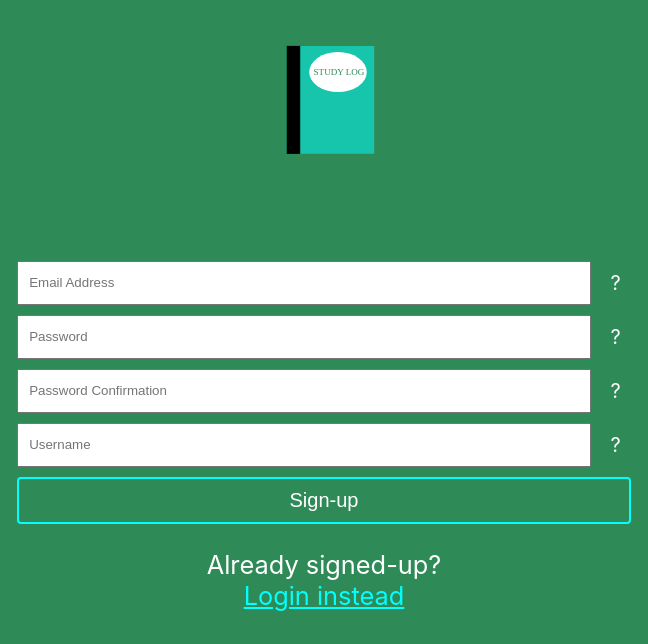
Test case: Sign-up Page › blocks failed registration when the email format is wrong
Type "s.addict!@test.com" into the field with test id "email-input" at {"x": 304, "y": 283}, box [17, 261, 590, 305]
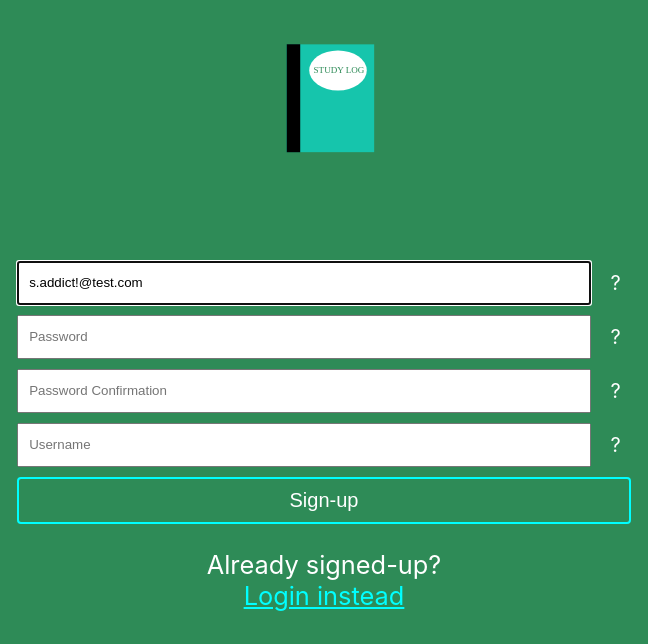
Type "bookworm" into the password field with test id "password-input" at {"x": 304, "y": 337}, box [17, 315, 590, 359]
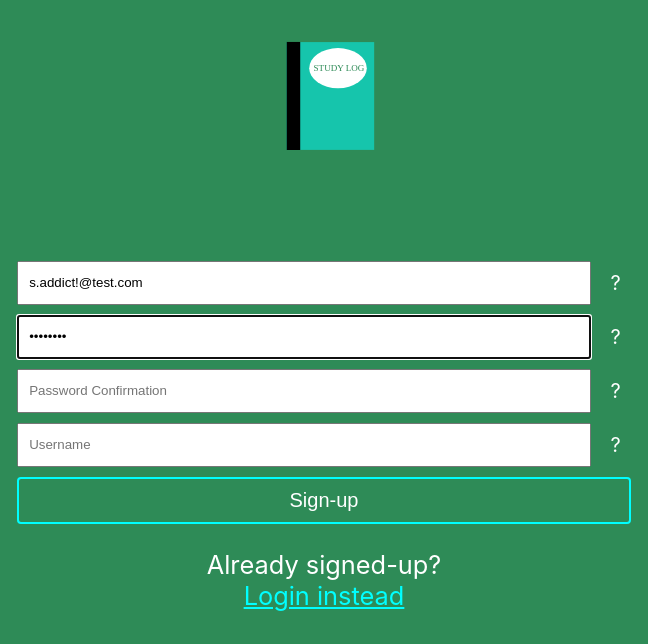
Type "bookworm" into the password field with test id "password-confirmation-input" at {"x": 304, "y": 391}, box [17, 369, 590, 413]
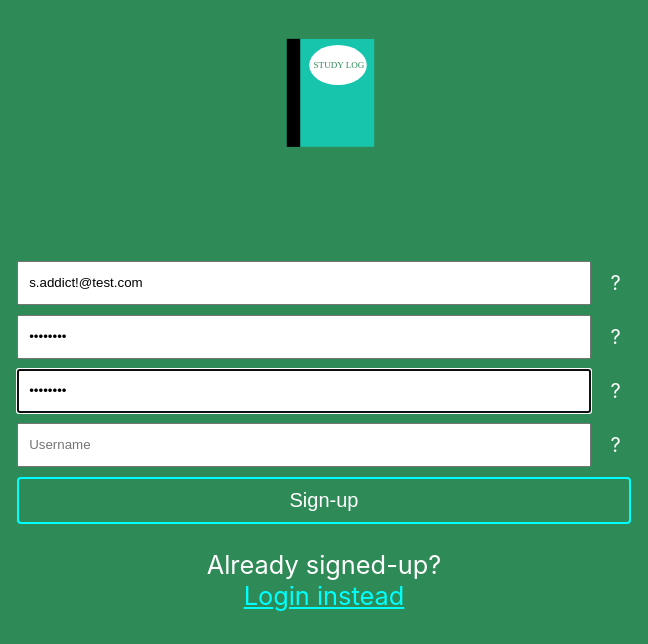
Type "Studying Addict 3" into the field with test id "username-input" at {"x": 304, "y": 445}, box [17, 423, 590, 467]
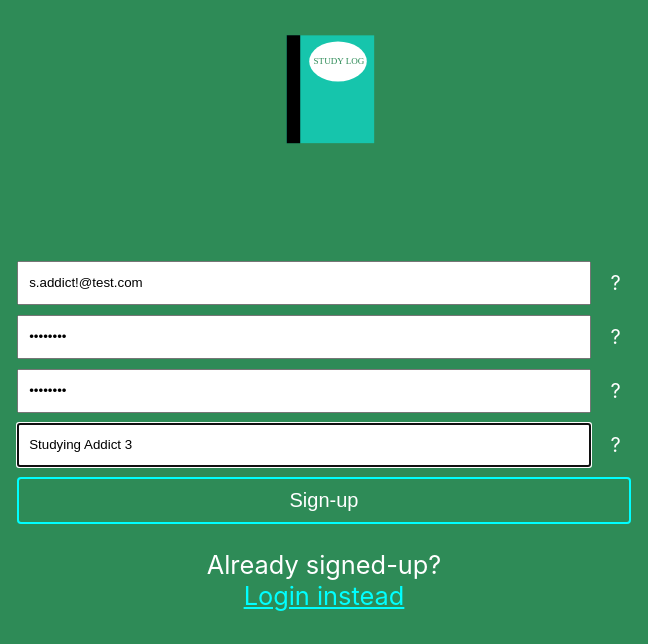
Click the button "Sign-up" at {"x": 324, "y": 501}, box [17, 477, 631, 524]
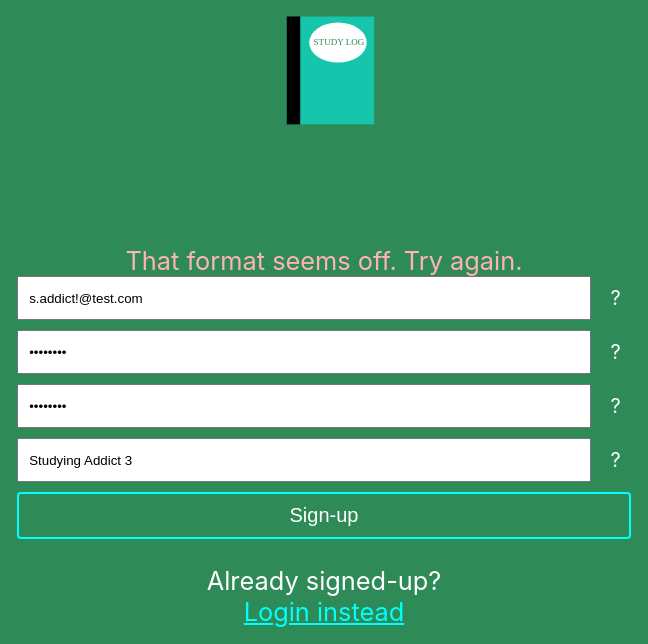
Expected: the text "That format seems off. Try again." is shown, [125, 245, 522, 276]
